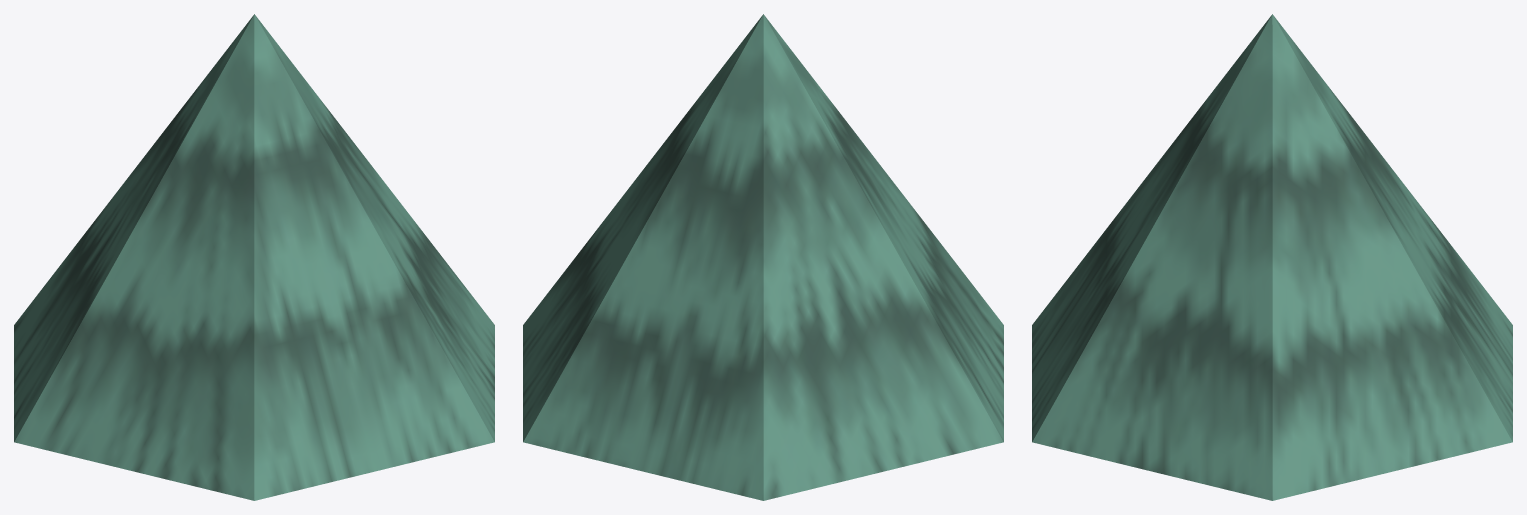
The model's file is env_Coniferous_Part_A.FBX.
3 views of the same model, side by side, from view 1: azimuth 30°, elevation 25°; view 2: azimuth 150°, elevation 25°; view 3: azimuth 270°, elevation 25° (orthographic).
Parts seen in each view (by area): view 1: env_Coniferous_Part_A; view 2: env_Coniferous_Part_A; view 3: env_Coniferous_Part_A.
Boxes of the visible parts, x1,y1,x2,y2 form: env_Coniferous_Part_A: (14,14,494,500); env_Coniferous_Part_A: (523,14,1003,500); env_Coniferous_Part_A: (1032,14,1512,500).
Bounding box in the file's own units: 427 × 314 × 370.
